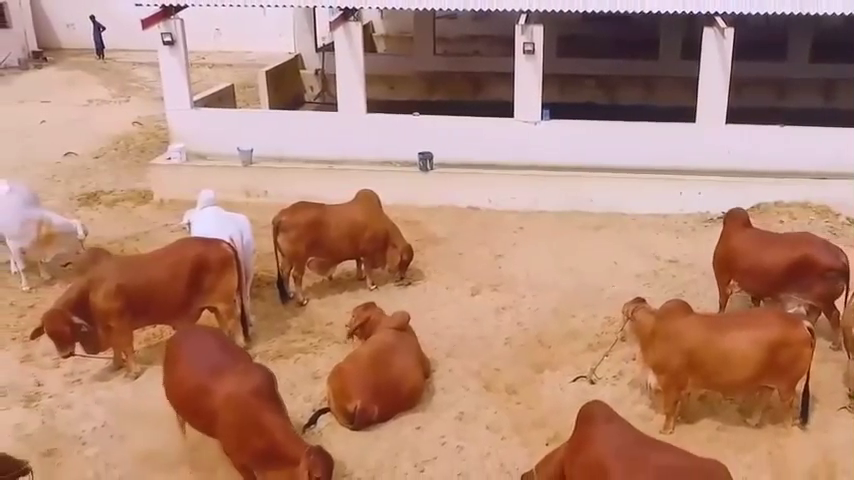bo: (44, 234, 253, 383), (610, 285, 811, 438), (157, 323, 340, 477), (259, 176, 418, 304), (510, 394, 742, 480), (704, 199, 844, 325), (312, 302, 435, 427), (1, 169, 89, 292), (179, 182, 257, 316)
